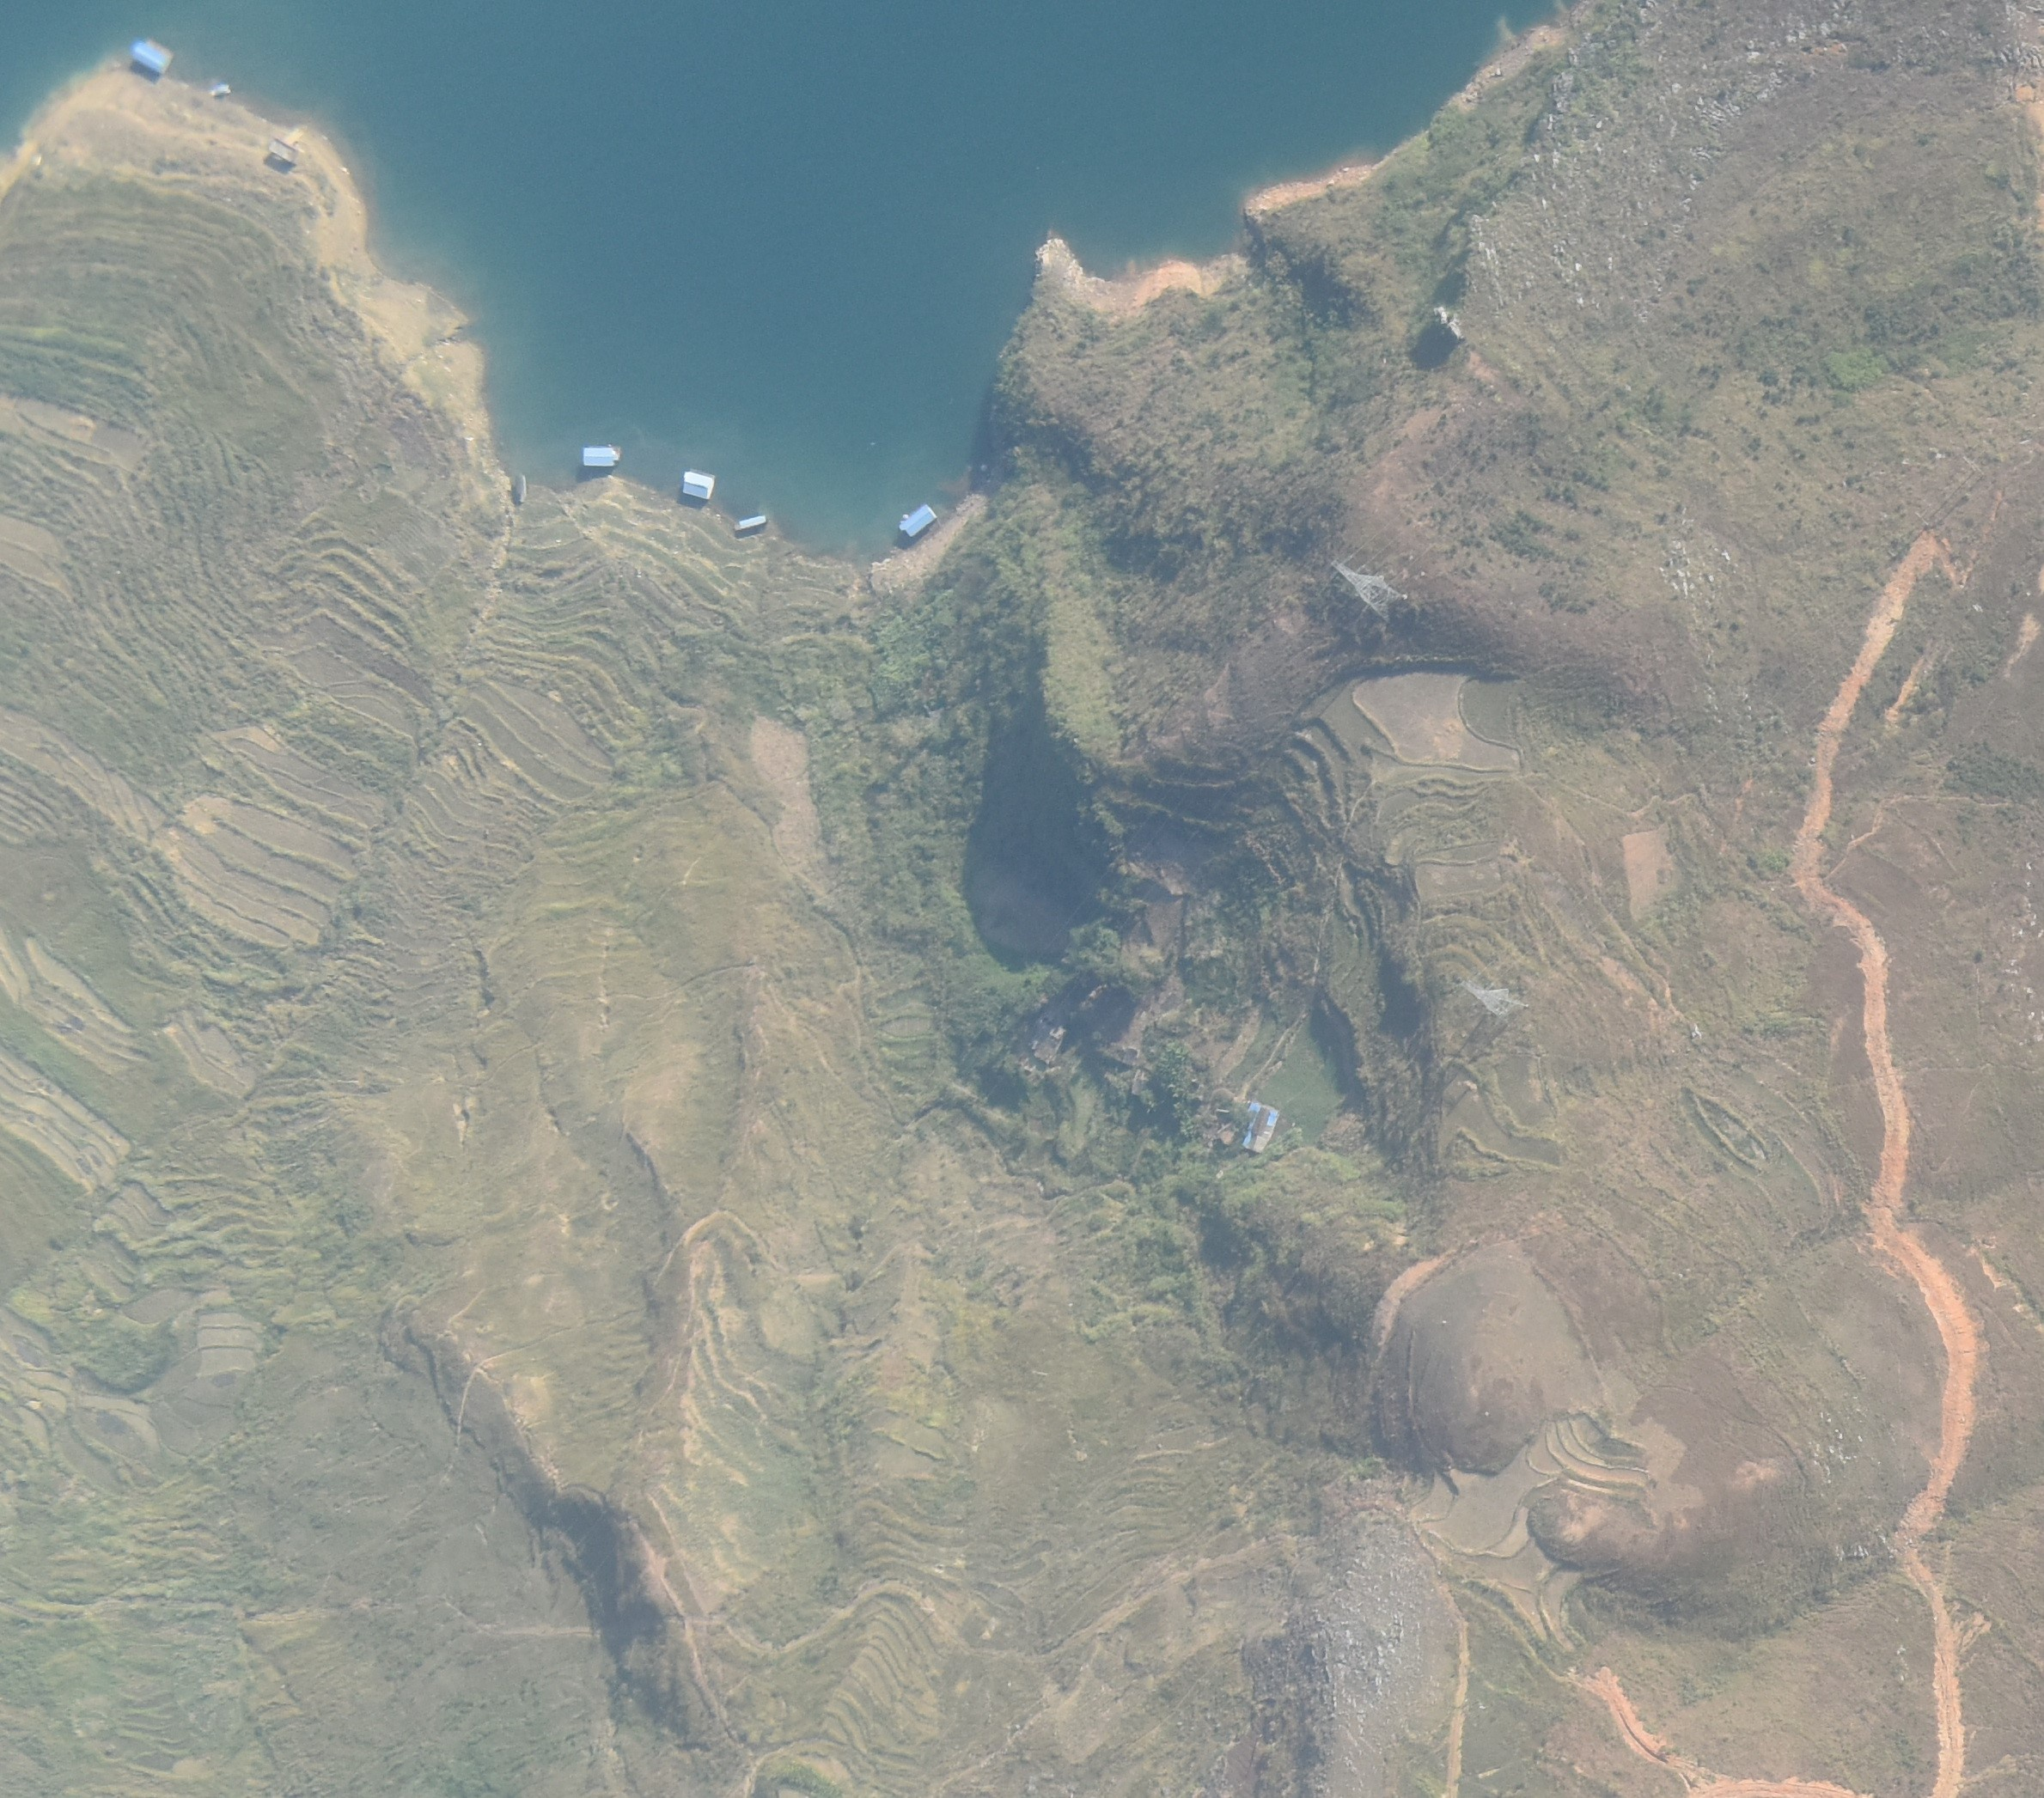building: (268, 137, 297, 163), (514, 471, 528, 502)
cable-tower: (1328, 549, 1408, 624), (1462, 976, 1531, 1023)
prefabricated-house: (1243, 1101, 1277, 1153), (130, 38, 169, 73), (900, 504, 935, 539), (681, 474, 714, 499), (582, 443, 614, 467), (739, 514, 765, 530), (209, 82, 229, 96)
